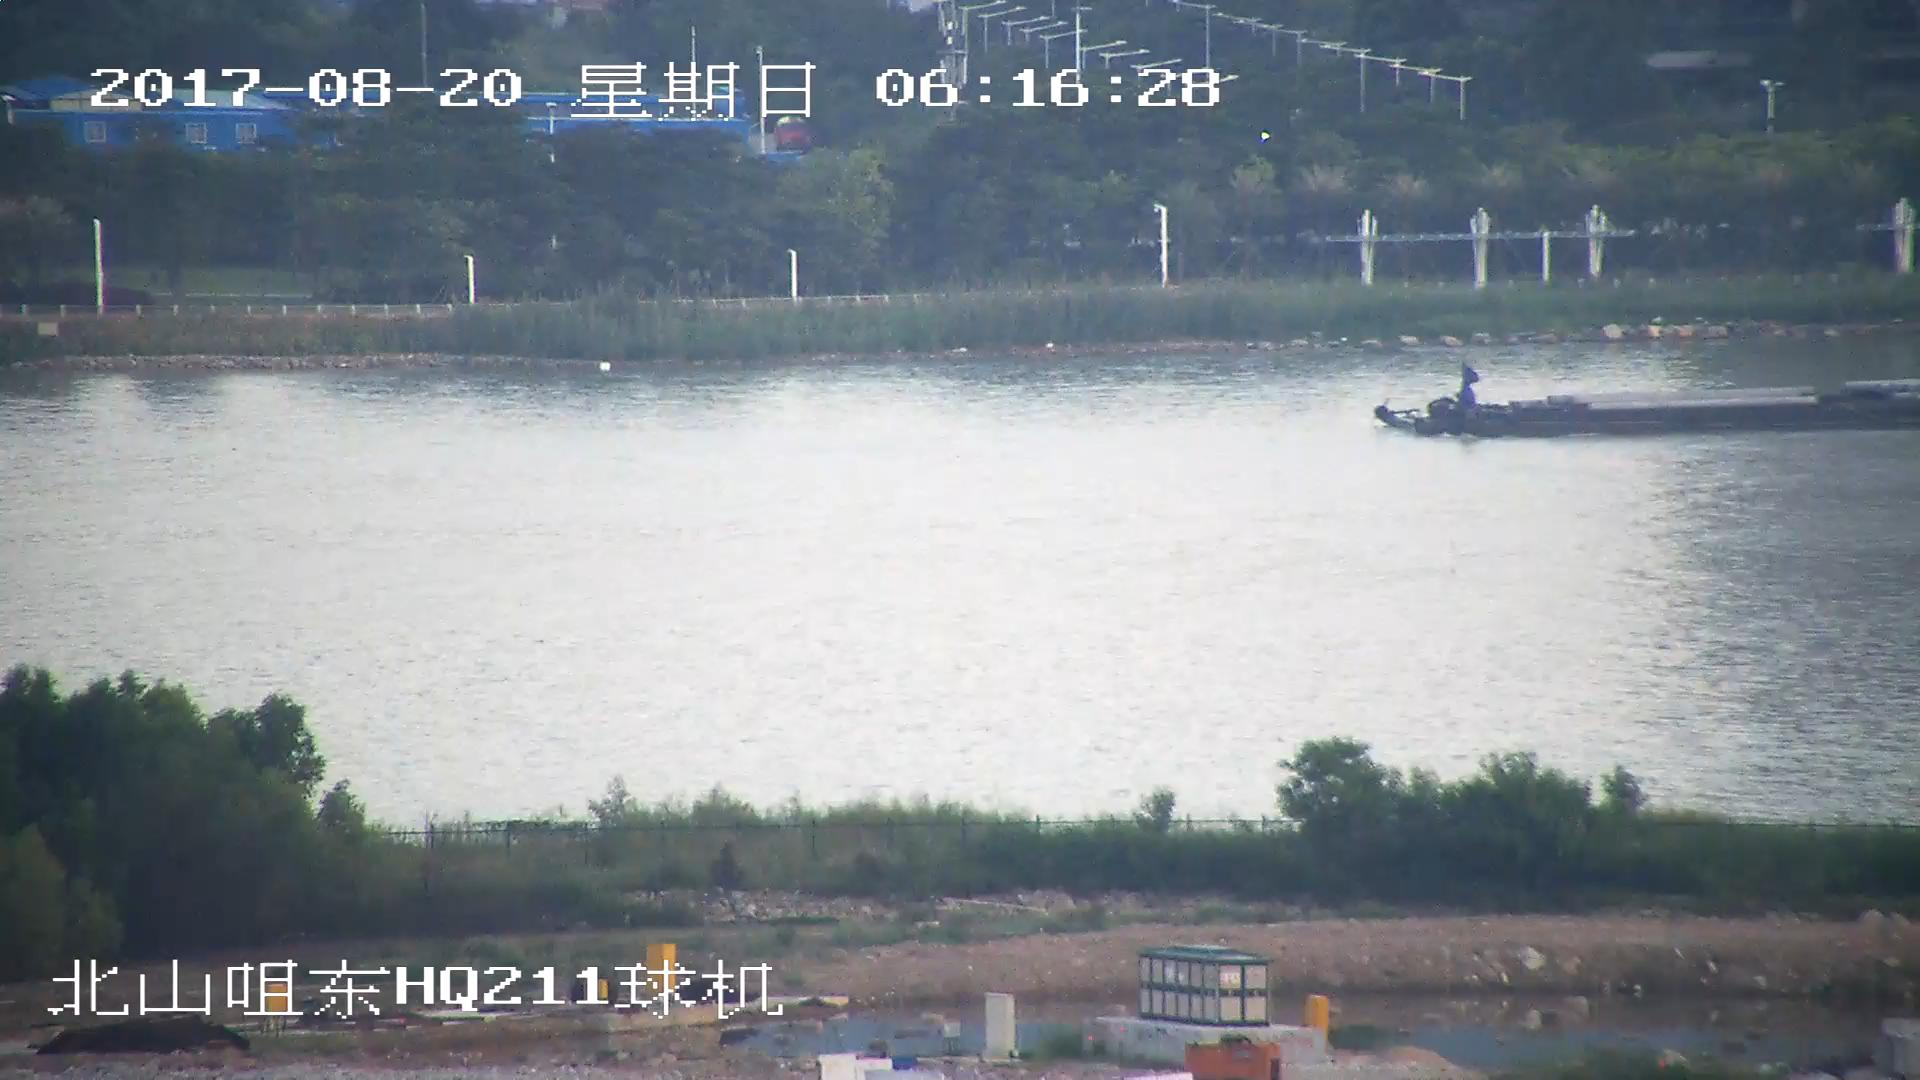bulk cargo carrier: (1374, 369, 1920, 433)
